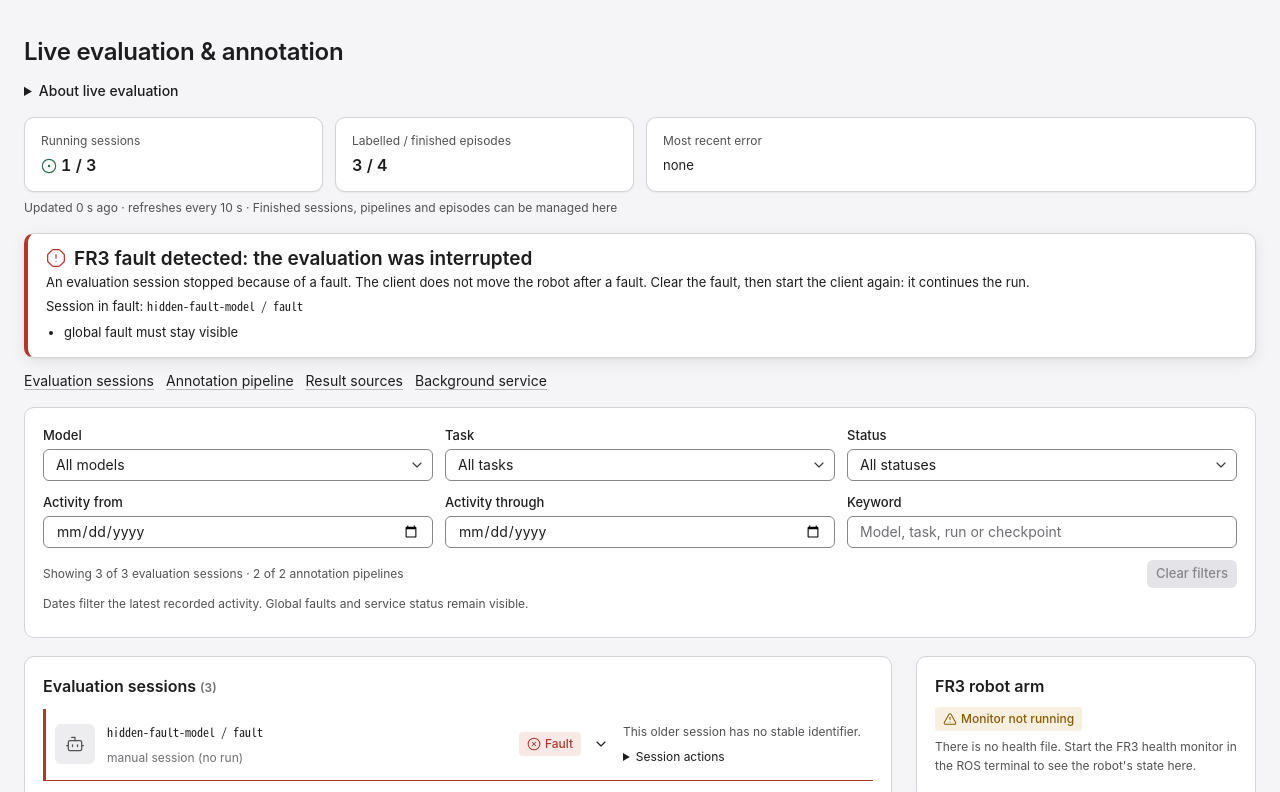
live page list integration › combined filters count both lists and never hide the global fault banner
Select "pi05" in the dropdown labelled "Model" at (238, 465), box [43,449,433,481]
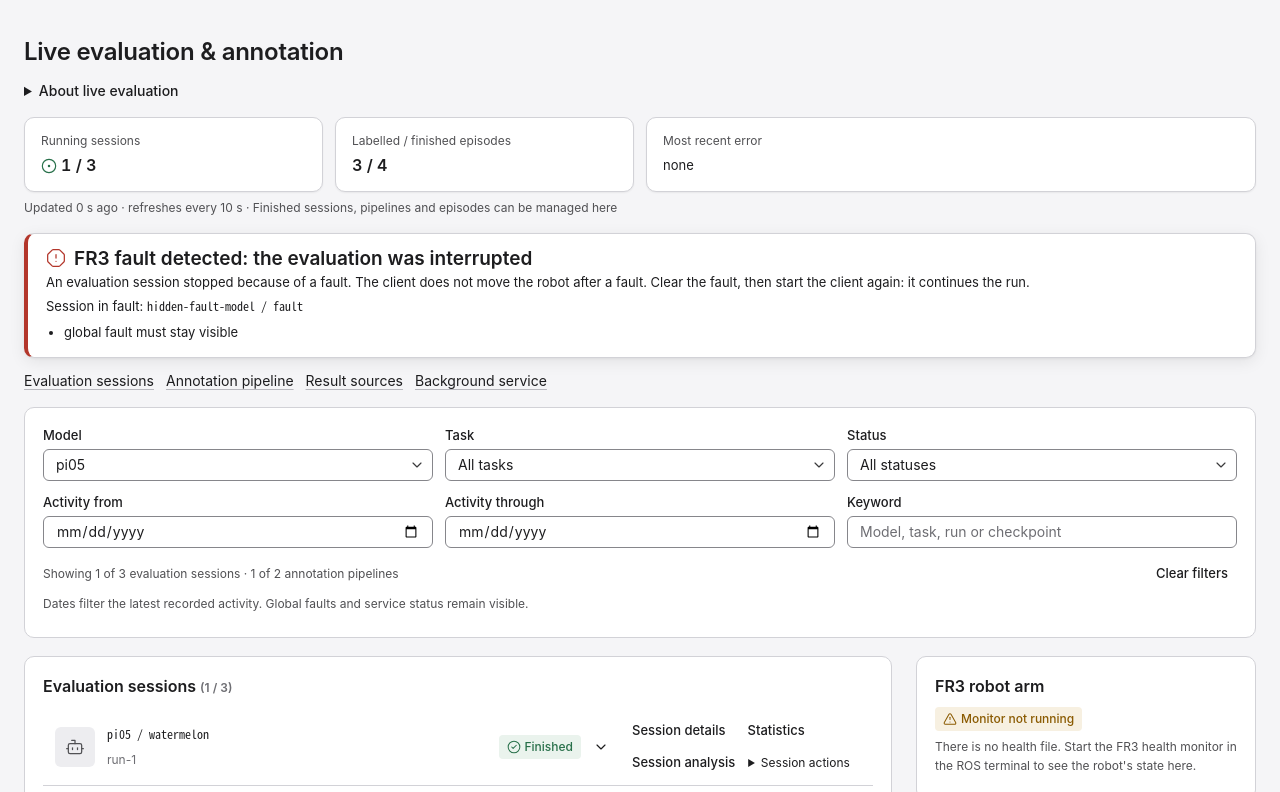
Select "watermelon" in the dropdown labelled "Task" at (640, 465), box [445,449,835,481]
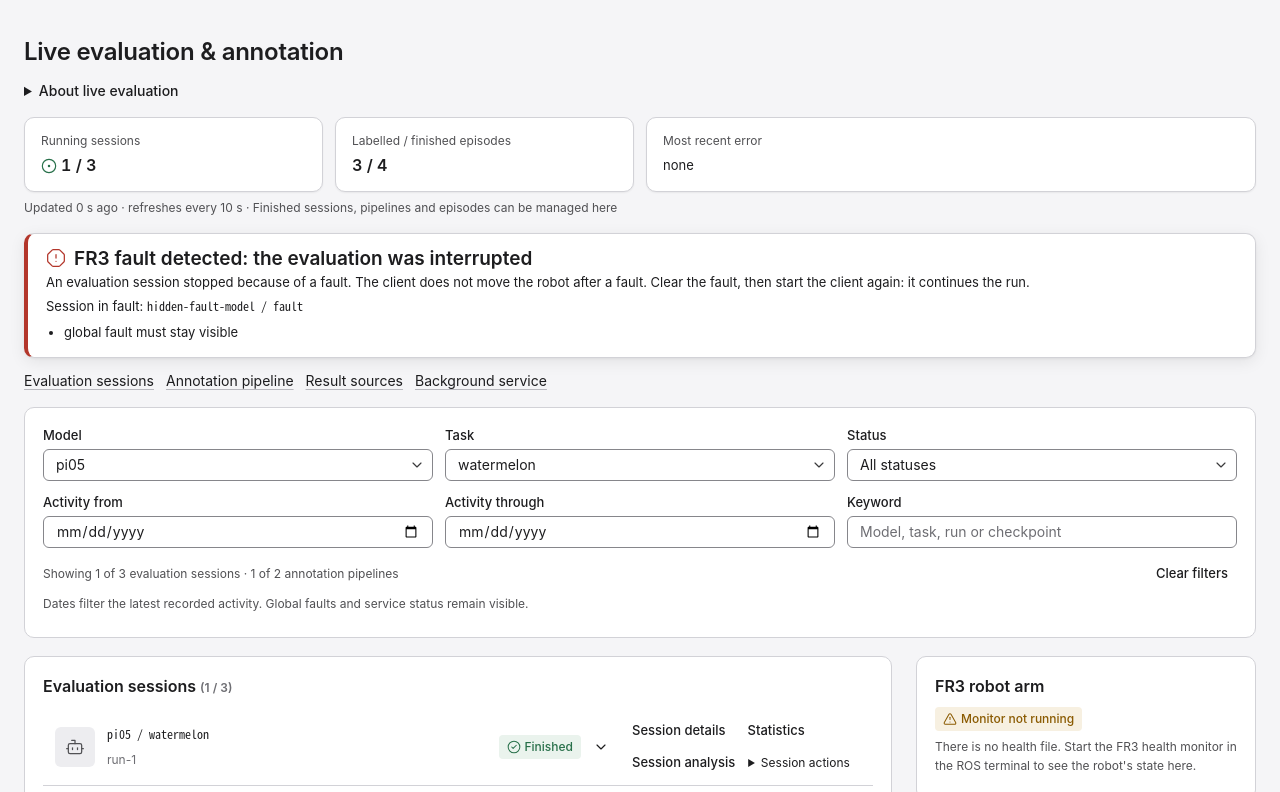
Select "Finished" in the dropdown labelled "Status" at (1042, 465), box [847,449,1237,481]
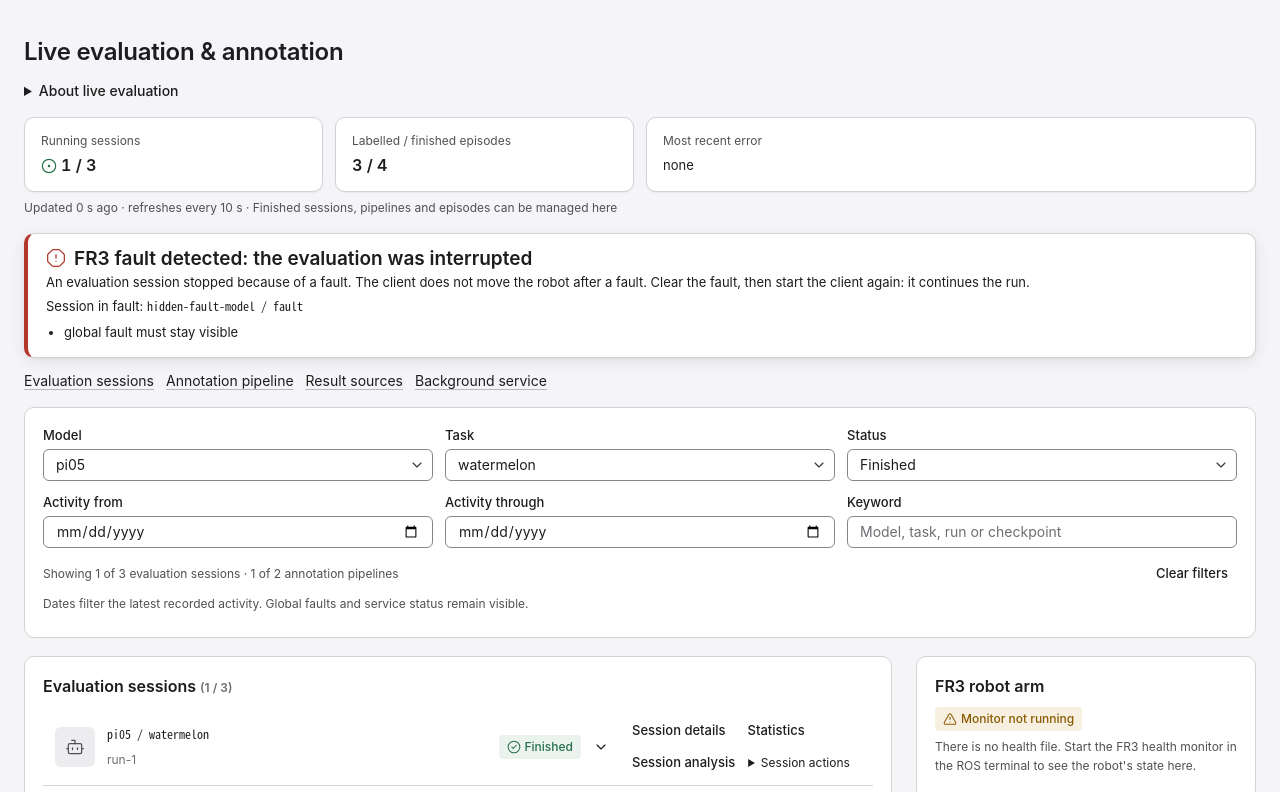
Expected: the element that starts with "Evaluation sessions" shows "run-1", [43,711,623,782]
Now the element that starts with "Showing 1 of 3 evaluation sessions" is shown, box [43,566,240,581]
Now the element that starts with "Showing 1 of 3 evaluation sessions" shows "1 of 2 annotation pipelines", box [250,566,399,581]
Click the button "Clear filters" at (1192, 574), box [1147,560,1237,588]
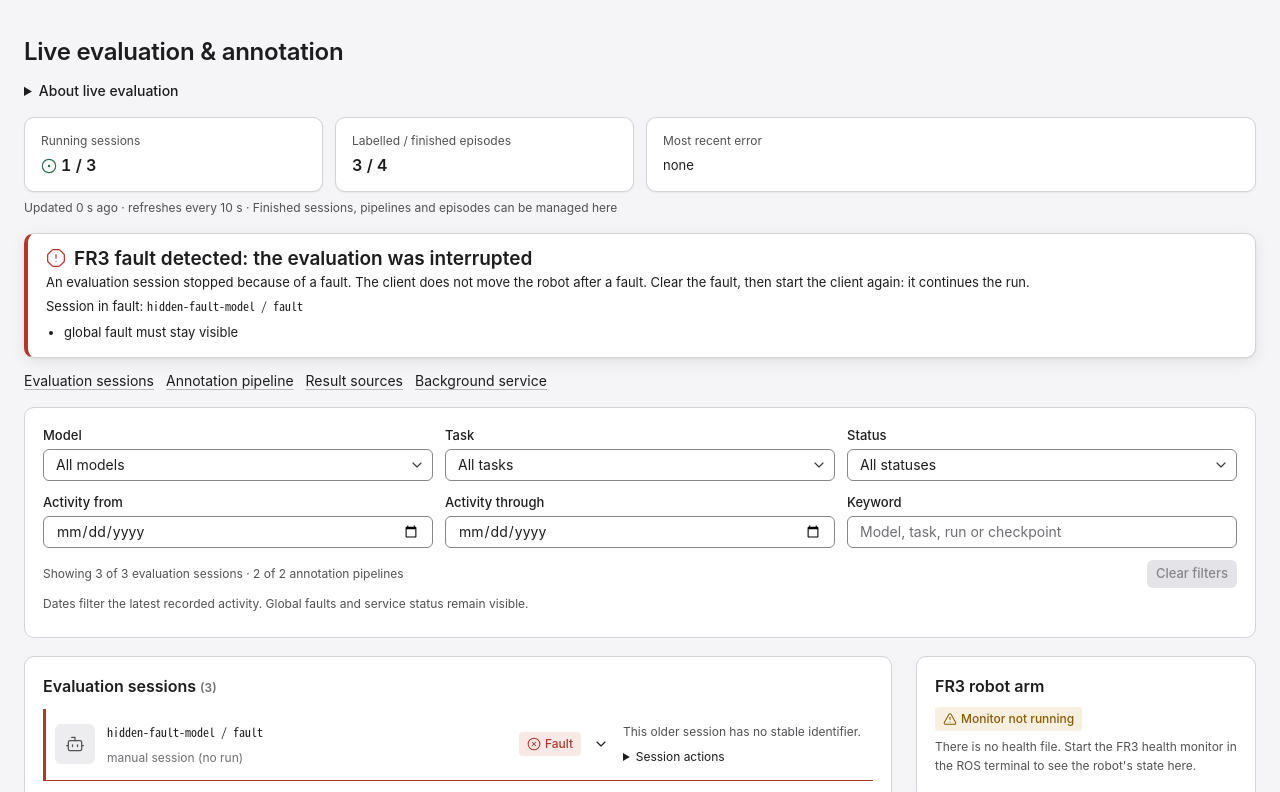
Now the element that starts with "Showing 3 of 3 evaluation sessions" is shown, box [43,566,243,581]
